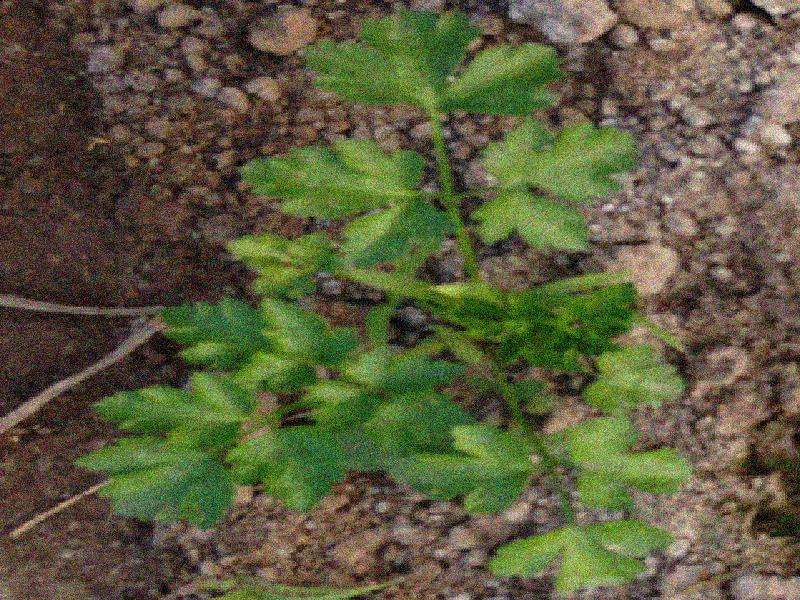radish: (2, 121, 800, 561)
